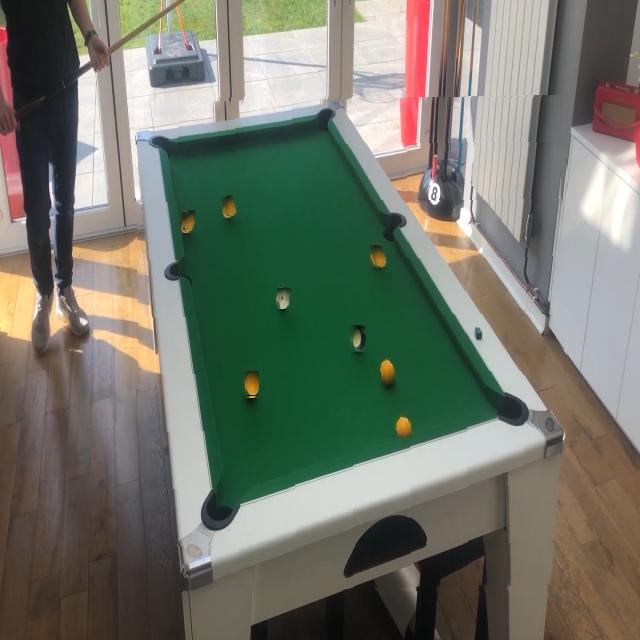Ball: (382, 360, 398, 388), (395, 416, 412, 439), (352, 326, 366, 352), (372, 246, 387, 269), (246, 372, 259, 398), (278, 286, 292, 308), (225, 195, 238, 216), (184, 210, 196, 231)
Billiard table: (138, 97, 568, 591)
